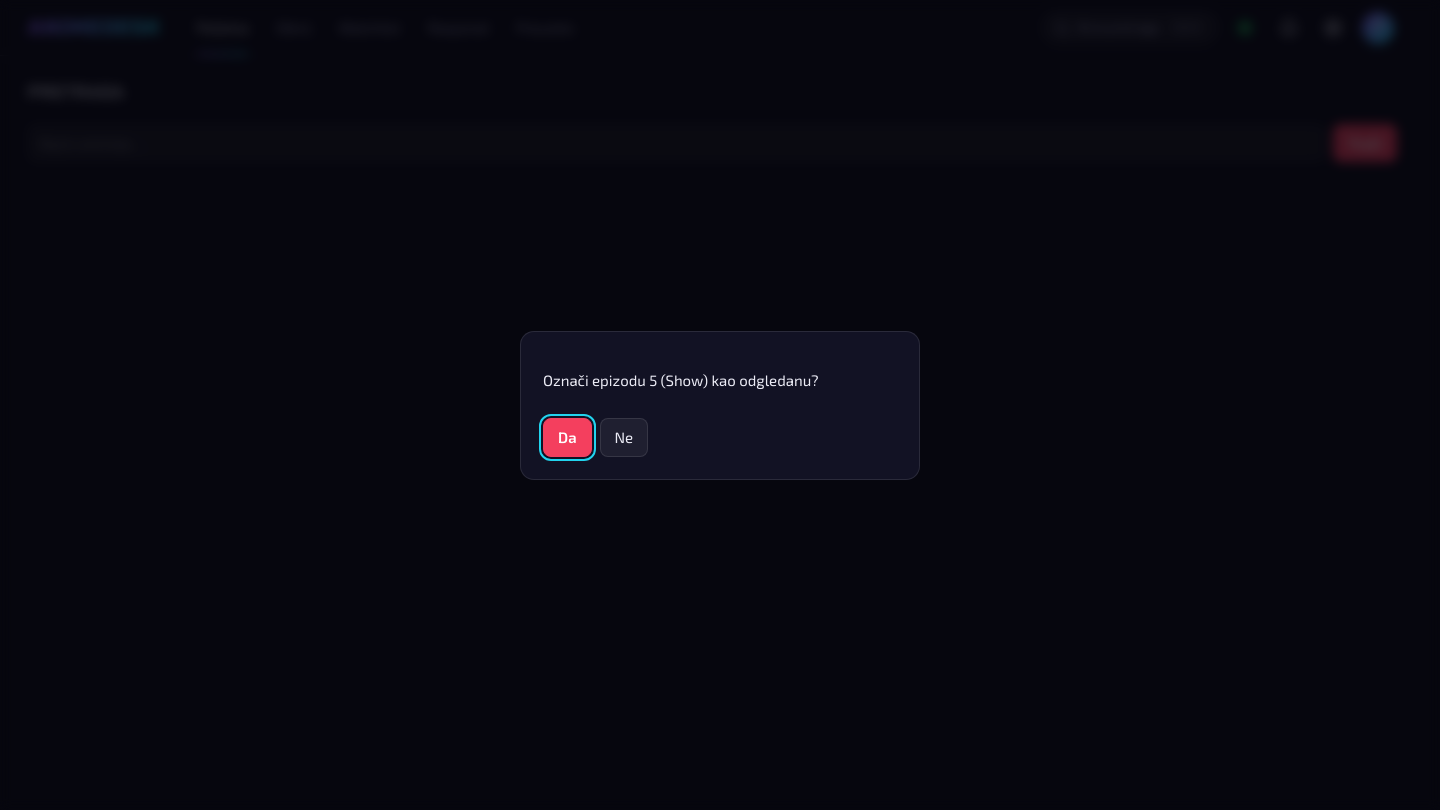
Scenario: App › queues ask dialogs so no answer is lost
Expected: the text "Označi epizodu 5 (Show) kao odgledanu?" is shown, x1=543 y1=370 x2=818 y2=388
Expected: the text "Označi epizodu 6 (Show) kao odgledanu?" is not shown
Click the button "Da" at (567, 437), box x1=543 y1=418 x2=592 y2=456
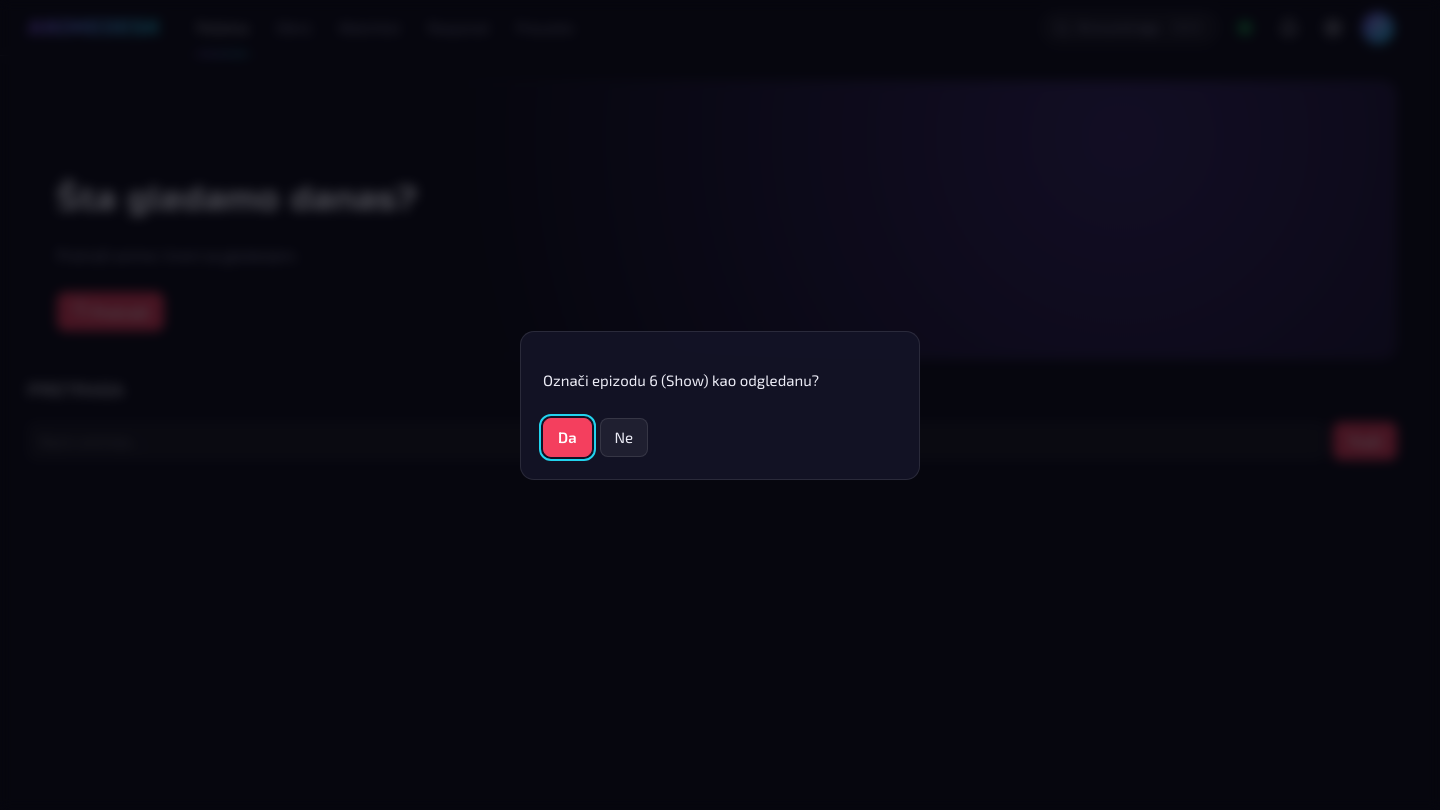
Expected: the text "Označi epizodu 6 (Show) kao odgledanu?" is shown, x1=543 y1=370 x2=819 y2=388
Click the button "Da" at (567, 437), box x1=543 y1=418 x2=592 y2=456
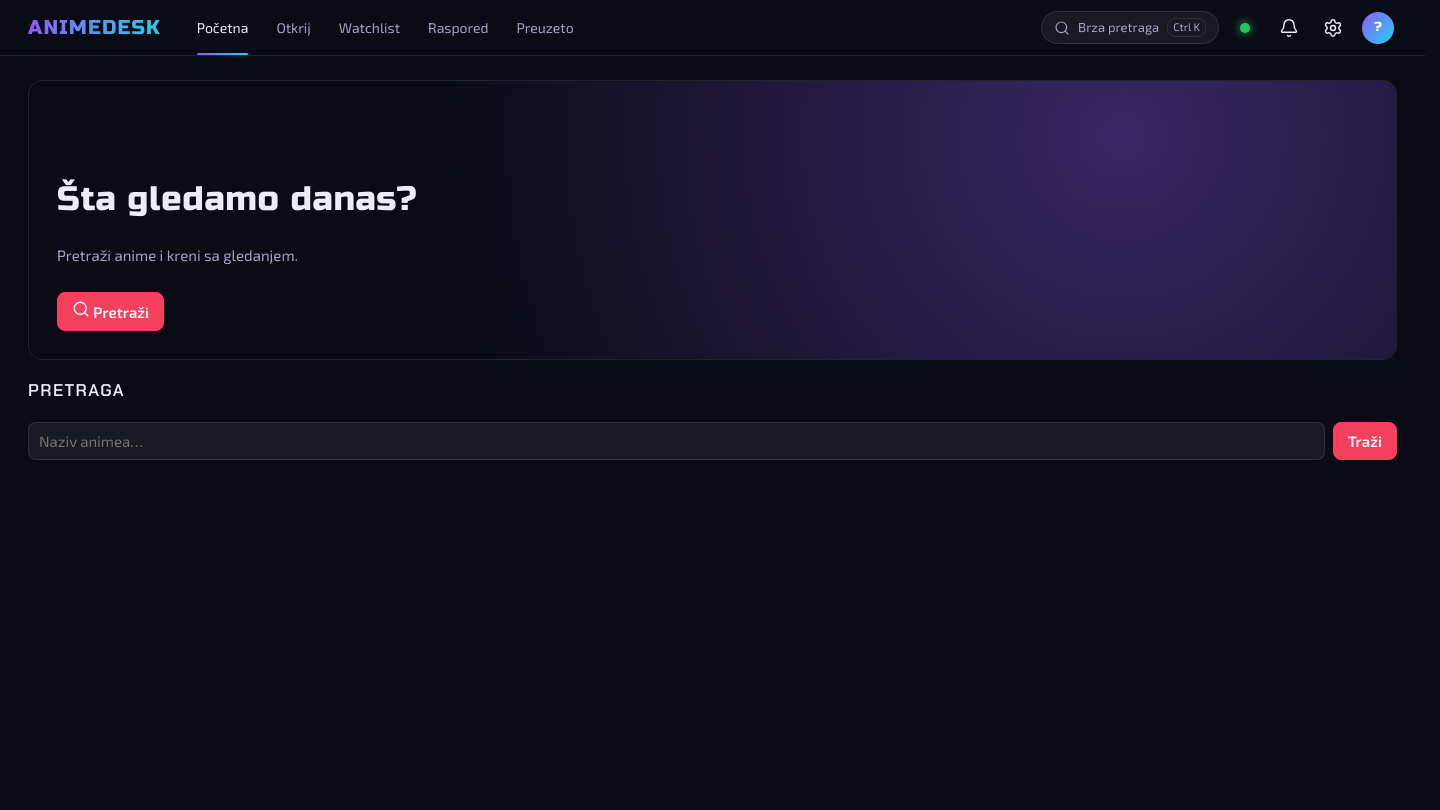
Expected: the dialog is gone
